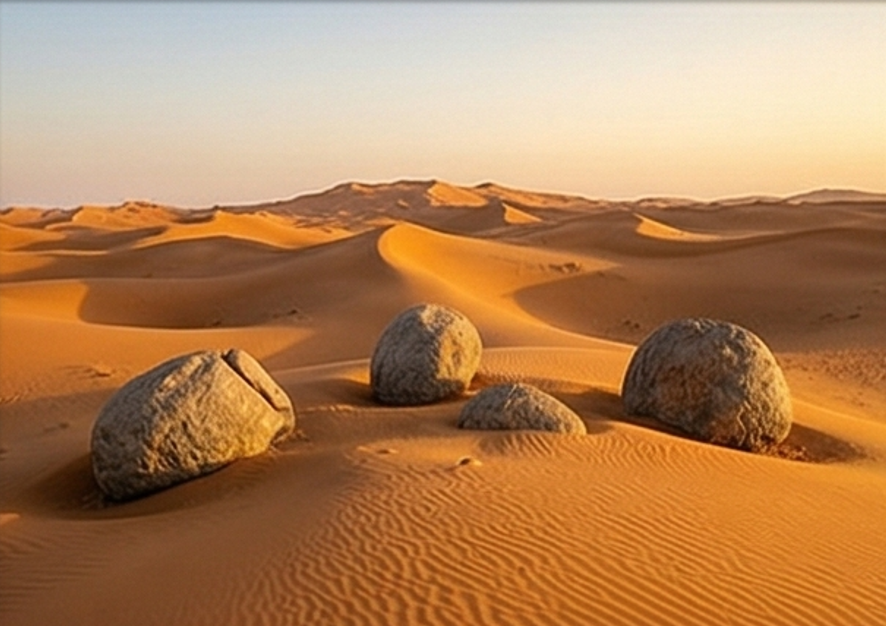rocks: (91, 349, 295, 498), (622, 318, 790, 450), (371, 304, 482, 404), (458, 383, 585, 432)
